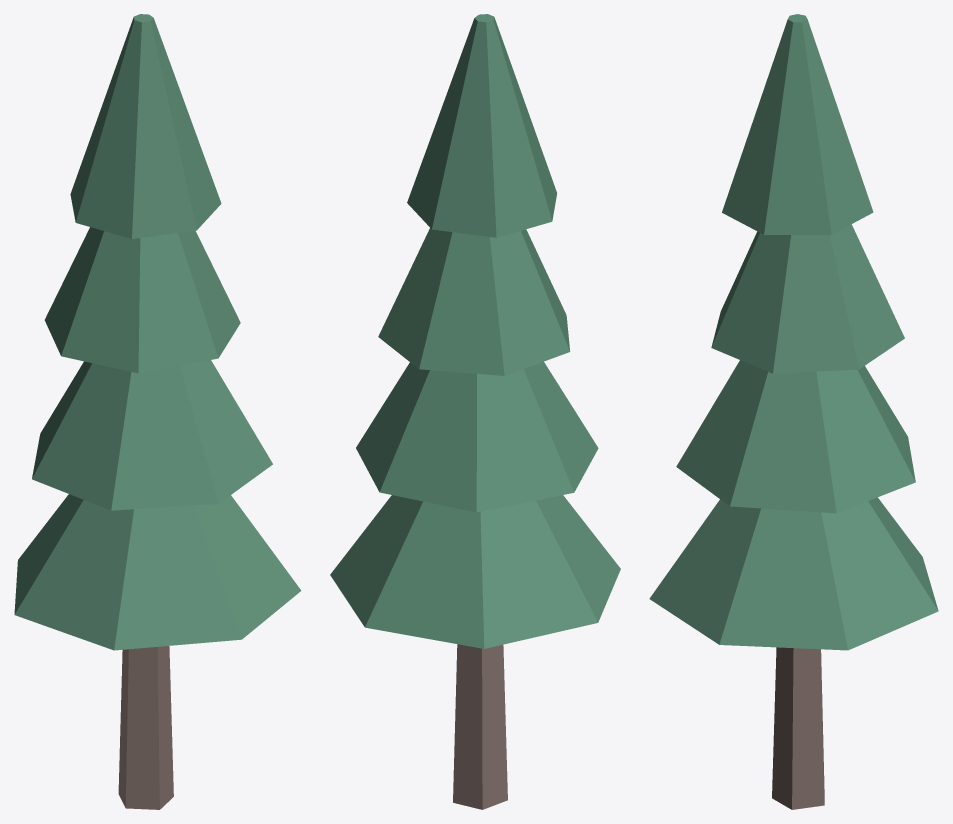
File: arv_pinheiro_2_sem_textura.glb
3 views of the same model, side by side, from view 1: azimuth 30°, elevation 25°; view 2: azimuth 150°, elevation 25°; view 3: azimuth 270°, elevation 25° (orthographic).
Visible parts, largest first — view 1: arv_pinheiro_2; view 2: arv_pinheiro_2; view 3: arv_pinheiro_2.
Part boxes in pixels (<box>): arv_pinheiro_2: <box>14,14,301,809</box>; arv_pinheiro_2: <box>330,14,620,809</box>; arv_pinheiro_2: <box>649,14,938,809</box>.
Bounding box in the file's own units: 0.844 × 2.51 × 0.846.
